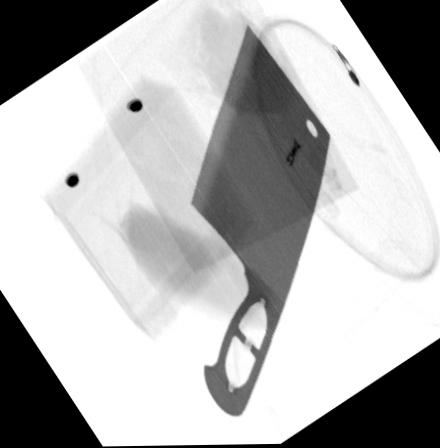Knife: (188, 22, 331, 420)
